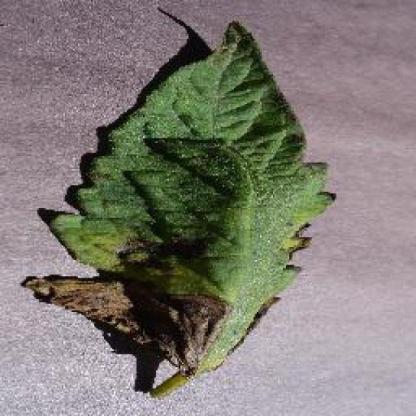Tomato_Blight: (21, 21, 335, 364)
